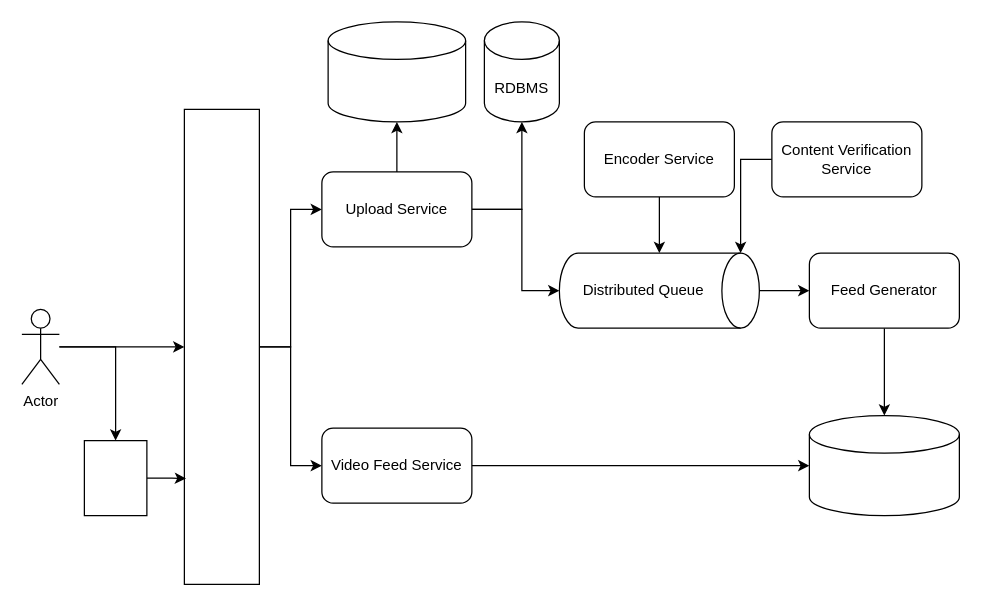
This 981x606 diagram has some shape labels left out. Each missing label, with the box of its shape:
CDN: (83, 439, 147, 516)
Distributed Cache: (808, 414, 959, 516)
DIstributed Storage: (327, 21, 466, 122)
Load Balancer: (183, 108, 259, 584)
